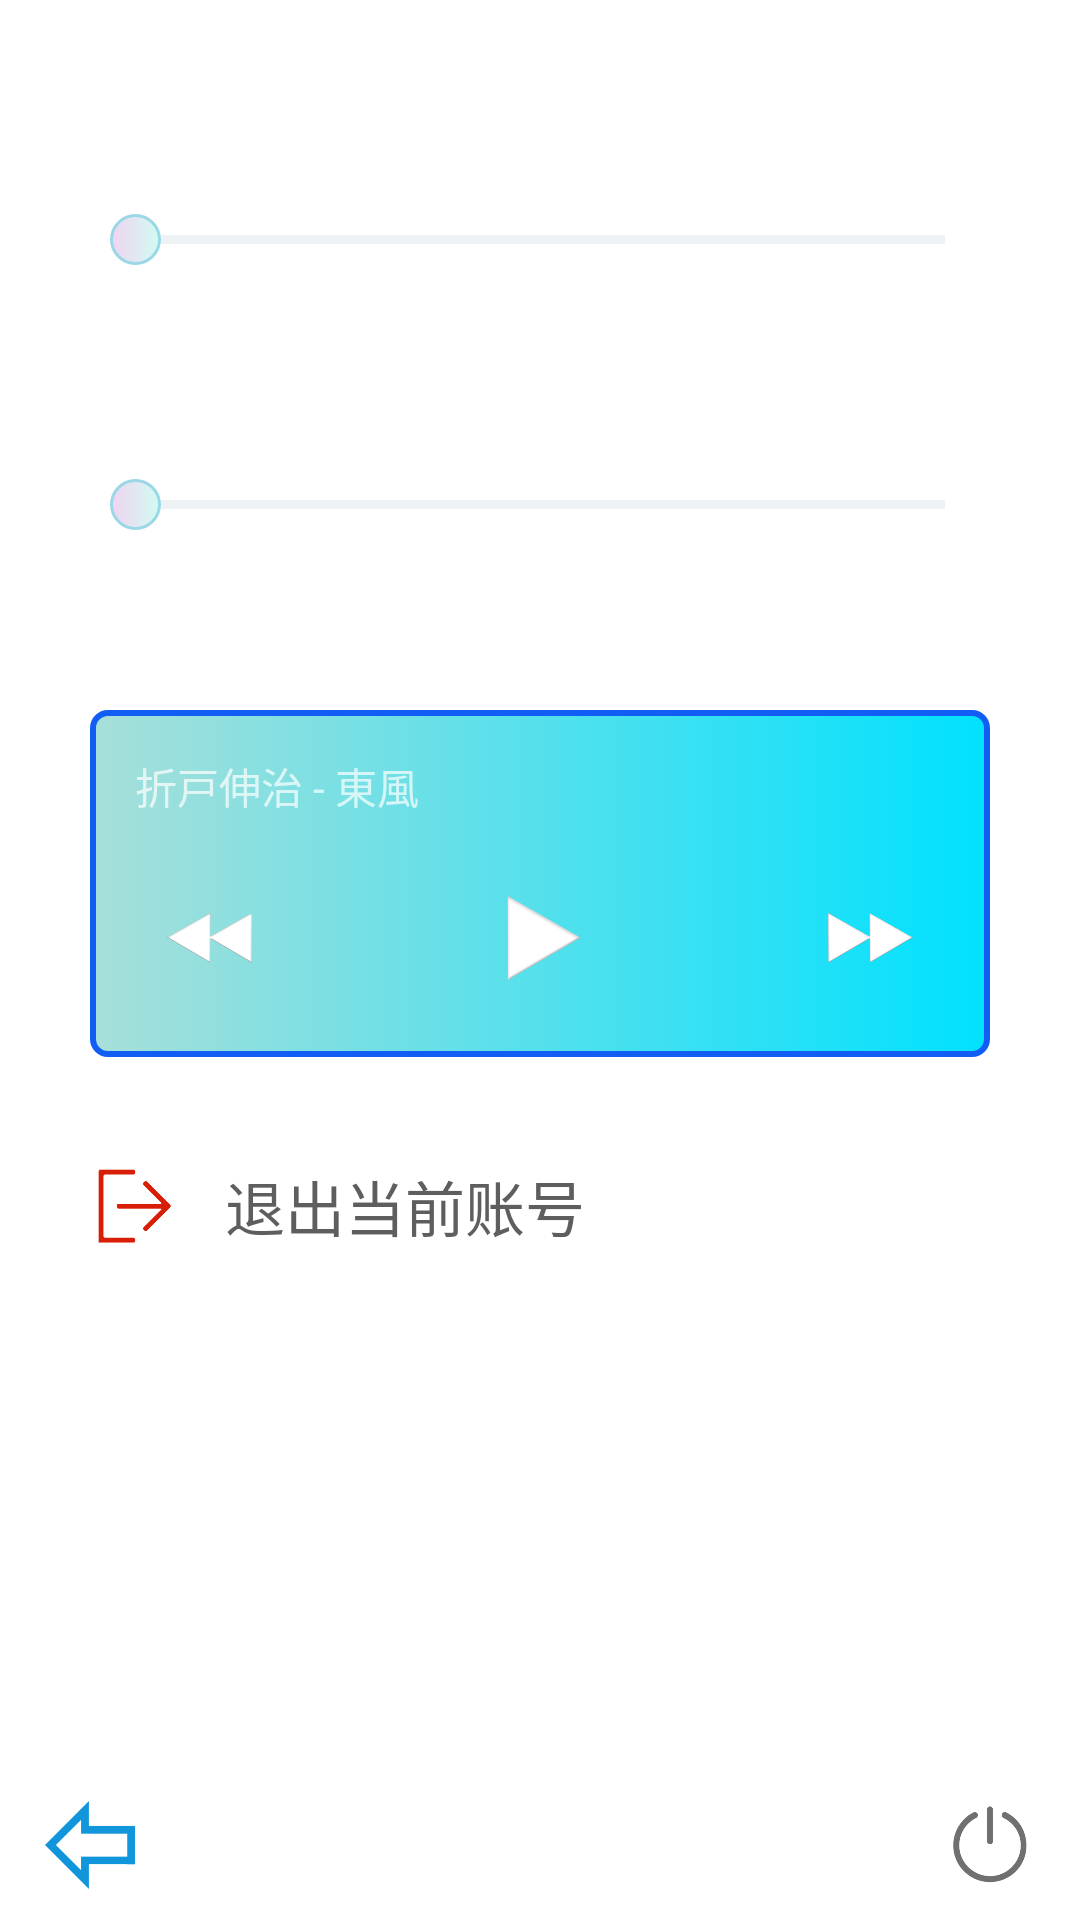

Screen size 1080px×1920px. Icon name, then its center in pixels as point (x, y):
back: point (90, 1845)
exit: point (134, 1206)
exit game: point (990, 1844)
play: point (559, 937)
